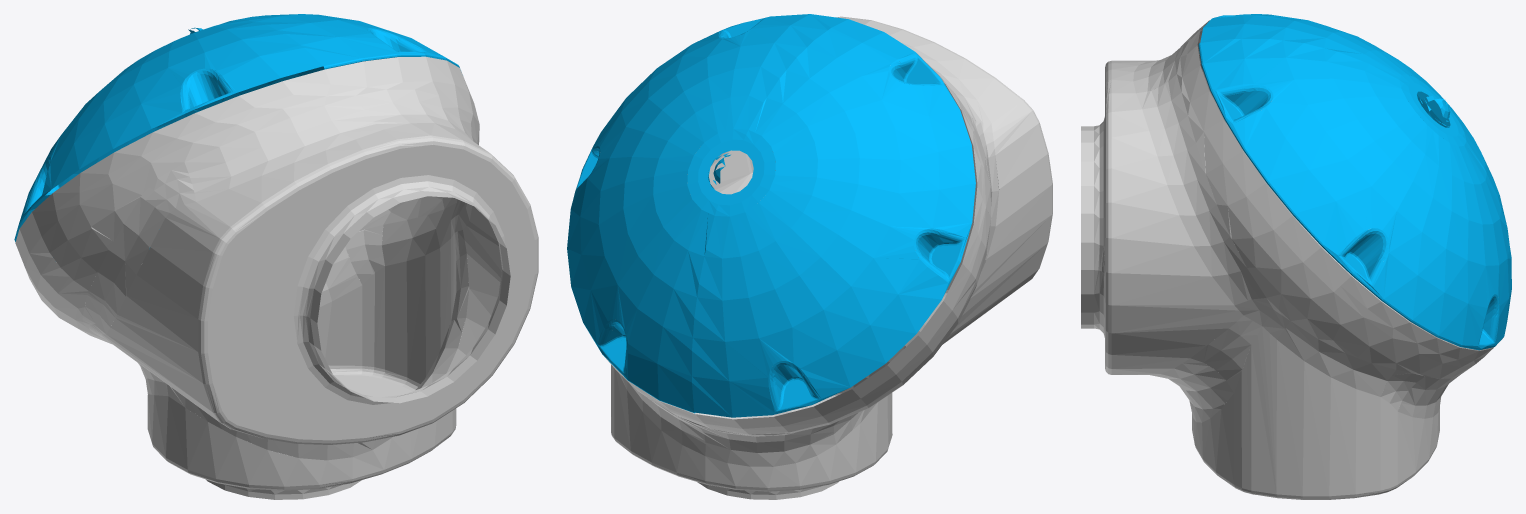
3 views of the same model, side by side, from view 1: azimuth 30°, elevation 25°; view 2: azimuth 150°, elevation 25°; view 3: azimuth 270°, elevation 25° (orthographic). The views are drawn at different scales.
Parts seen in each view (by area): view 1: HC10.001, HC10.002; view 2: HC10.002, HC10.001; view 3: HC10.001, HC10.002.
Boxes of the visible parts, x1,y1,x2,y2 form: HC10.001: [15, 56, 538, 499]; HC10.002: [14, 14, 459, 241]; HC10.002: [567, 14, 975, 417]; HC10.001: [604, 16, 1052, 499]; HC10.001: [1081, 20, 1493, 499]; HC10.002: [1198, 14, 1511, 350].
Bounding box in the file's own units: 20 × 20.85 × 19.81.
